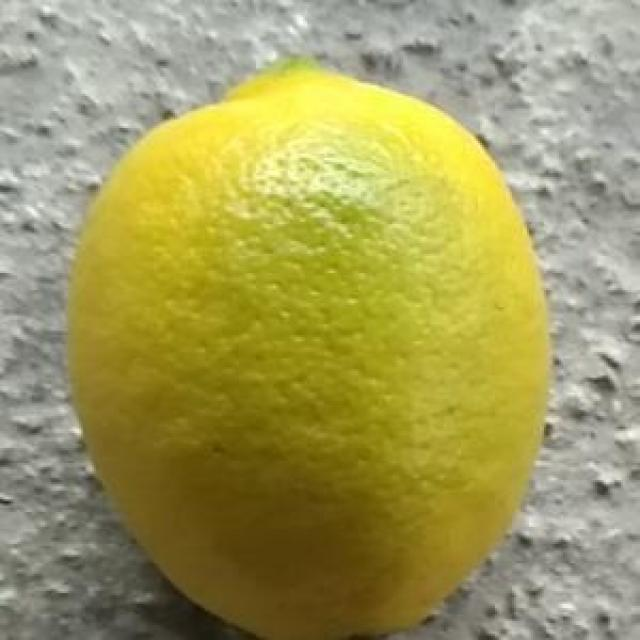lemon: (62, 58, 556, 635)
